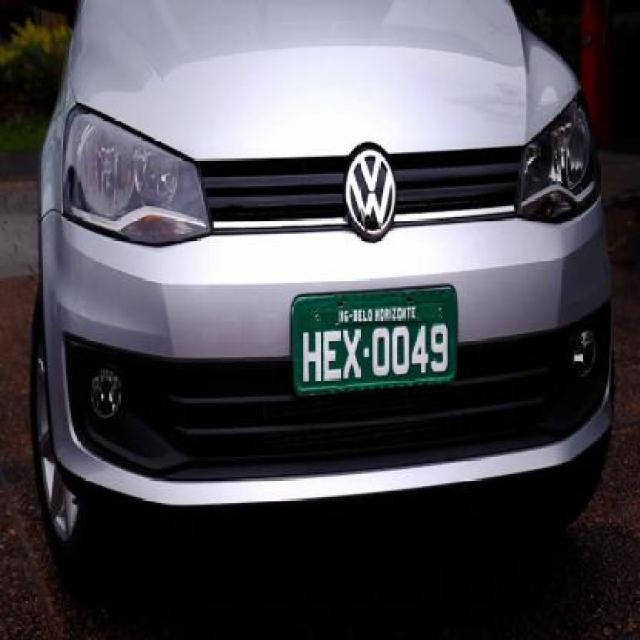old_plate: (284, 281, 466, 404)
